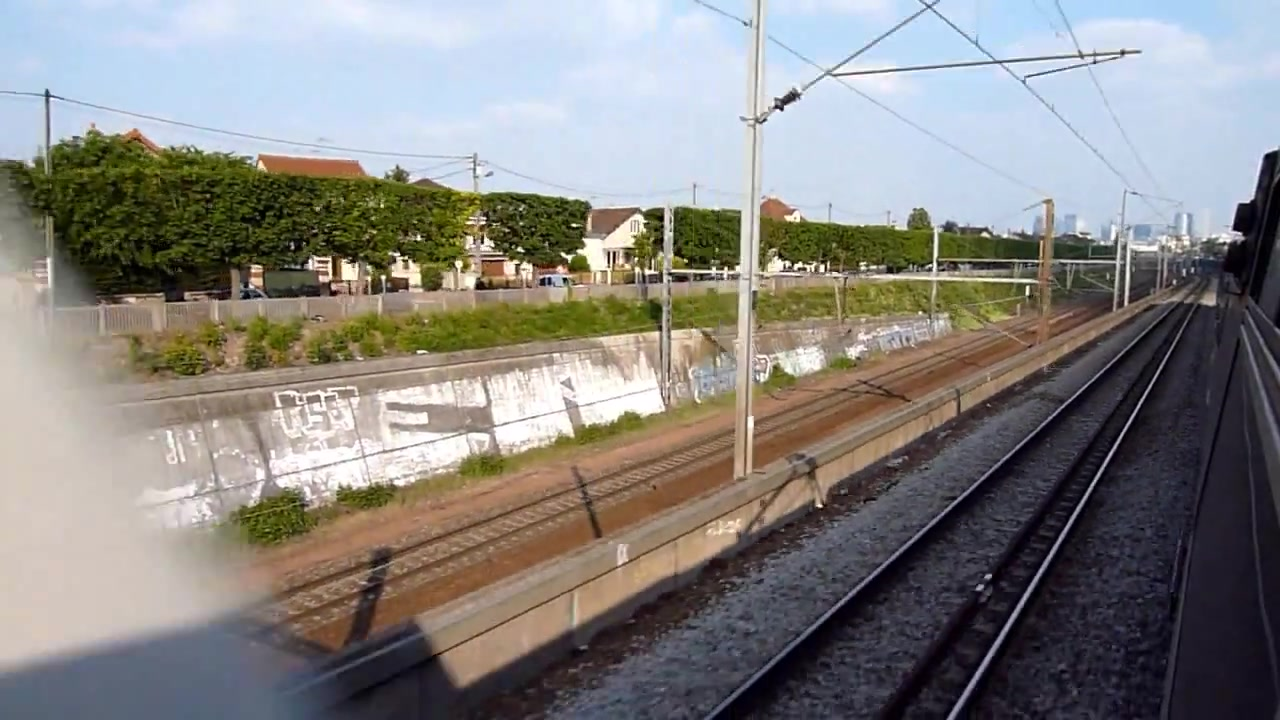train: (1163, 142, 1280, 720)
